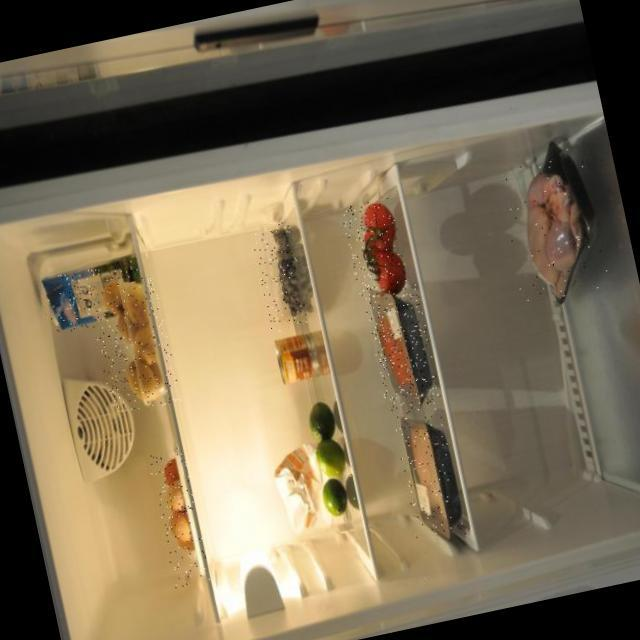Carne pollo: (493, 144, 615, 304)
Huevos: (147, 445, 211, 586)
